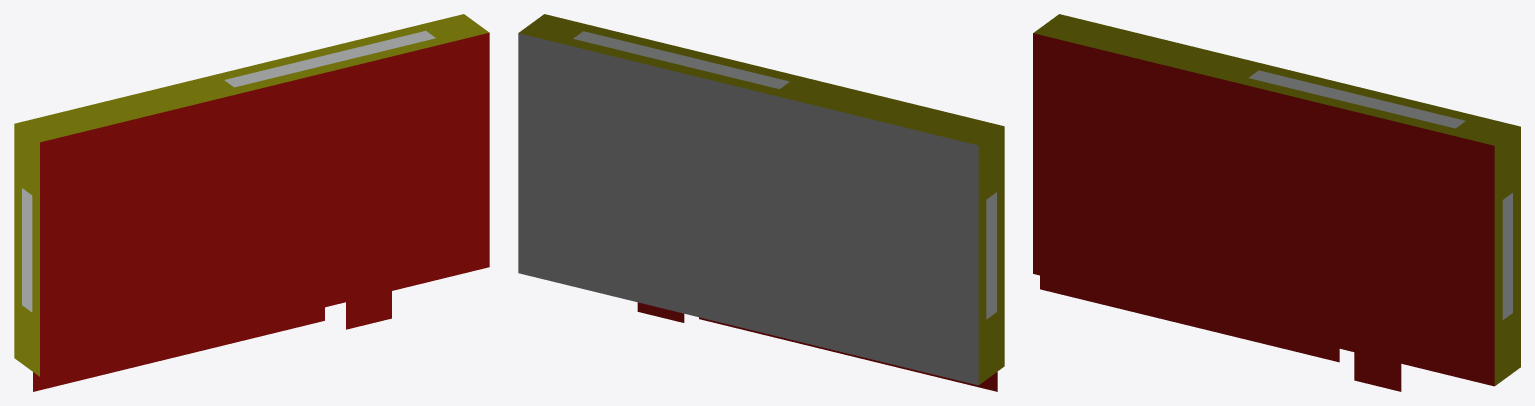
Rendered from idf.obj.
3 renders of one model, left to right at view 1: azimuth 30°, elevation 25°; view 2: azimuth 150°, elevation 25°; view 3: azimuth 330°, elevation 25°, orthographic. The views are drawn at different scales.
Size of the model in its own units: 30.5 by 17.2 by 3.
